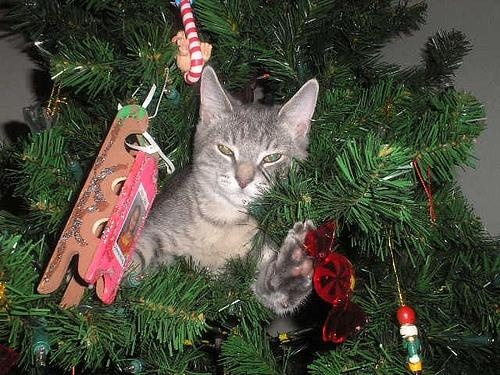cat: (124, 68, 319, 310)
